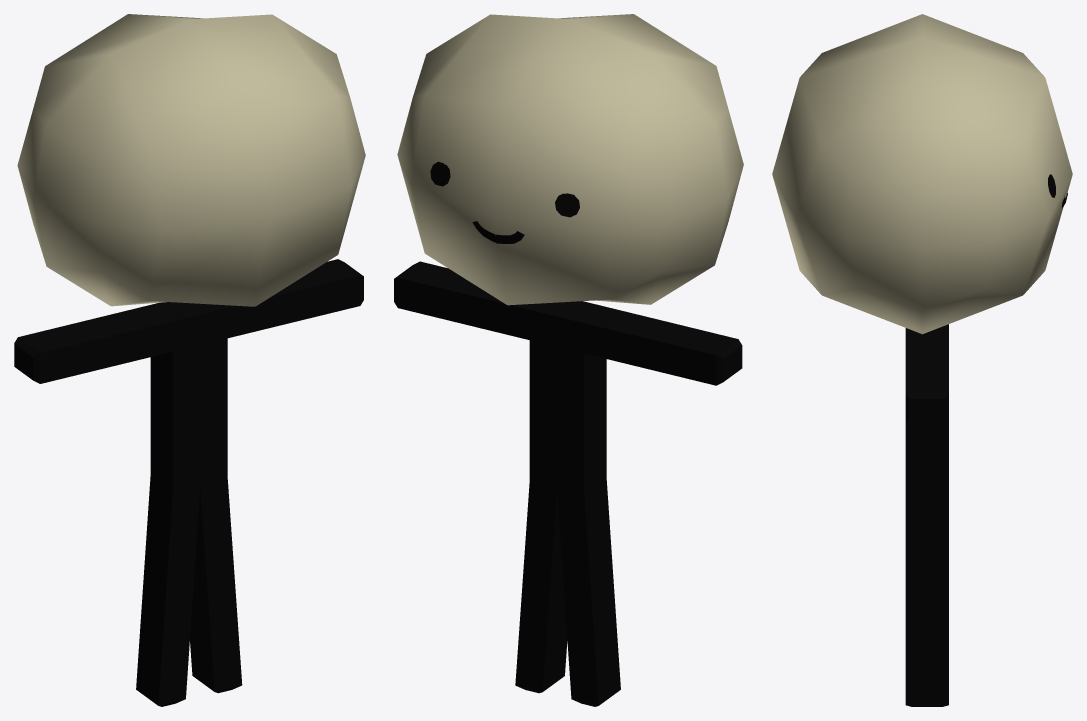
Rendered from renwu.FBX.
3 views of the same model, side by side, from view 1: azimuth 30°, elevation 25°; view 2: azimuth 150°, elevation 25°; view 3: azimuth 270°, elevation 25° (orthographic). The views are drawn at different scales.
Visible parts, largest first — view 1: Box014; view 2: Box014; view 3: Box014.
Part boxes in pixels (x1=…): Box014: x1=14, y1=14, x2=365, y2=706; Box014: x1=394, y1=14, x2=743, y2=706; Box014: x1=772, y1=14, x2=1072, y2=706.
Size of the model in its own units: 15.55 by 30.32 by 12.65.
